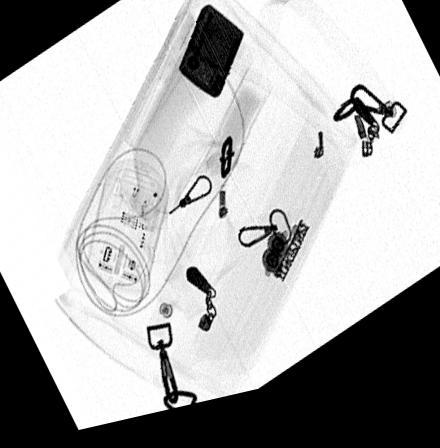Lighter: (178, 14, 244, 109)
